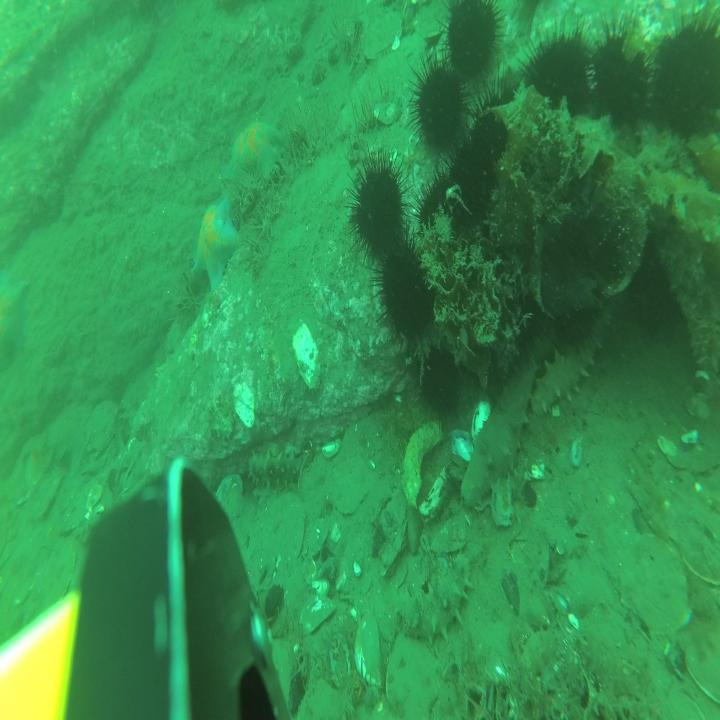echinus: (653, 3, 720, 149), (526, 17, 594, 146), (588, 16, 654, 147), (630, 214, 694, 348), (408, 44, 472, 170), (350, 147, 412, 268), (380, 230, 434, 360), (470, 69, 527, 179), (439, 0, 506, 91), (445, 132, 498, 239), (547, 268, 603, 359), (413, 331, 461, 432), (416, 164, 463, 255), (509, 260, 553, 344)
holothurian: (461, 318, 556, 512), (531, 299, 615, 419), (394, 549, 471, 643), (522, 622, 589, 692), (248, 448, 312, 492)
scallop: (624, 531, 691, 646), (386, 640, 442, 720), (23, 543, 73, 630), (687, 624, 720, 704), (84, 398, 120, 458), (683, 528, 720, 586), (363, 12, 403, 62), (212, 474, 242, 529), (415, 5, 449, 39)
starfish: (220, 117, 284, 188), (192, 194, 237, 294), (0, 268, 29, 372)
